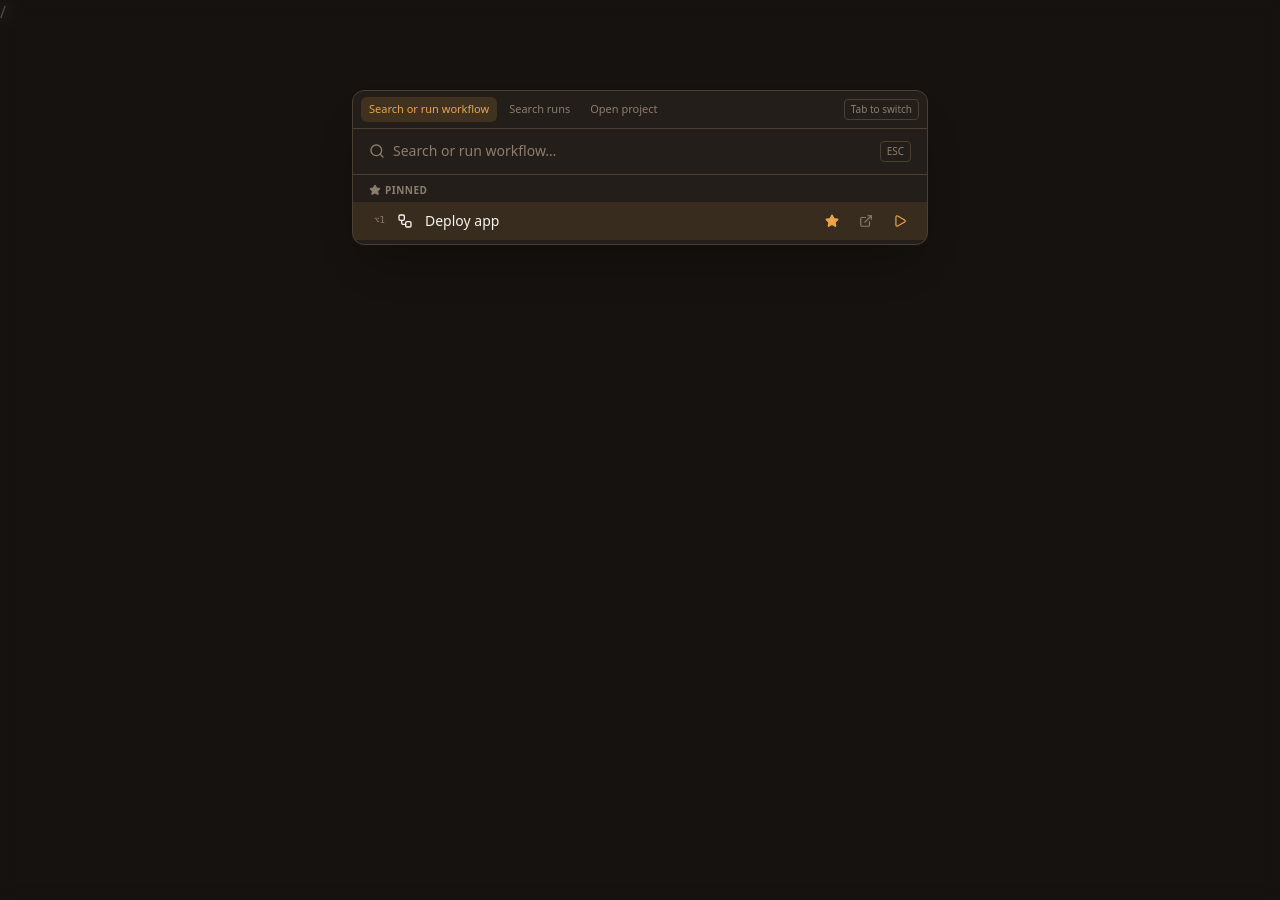
Test: CommandPalette › Enter during the debounce (9ded5db0) › waits for the semantic search when nothing matches locally, instead of asking the assistant (c5f3cff5)
Expected: the text "Deploy app" is shown, [425,210,499,230]
Type "qqxxjj" into the field with placeholder "Search or run workflow…".
click(632, 151); type("qqxxjj")  # box [393,141,872,161]
Wait 250 ms
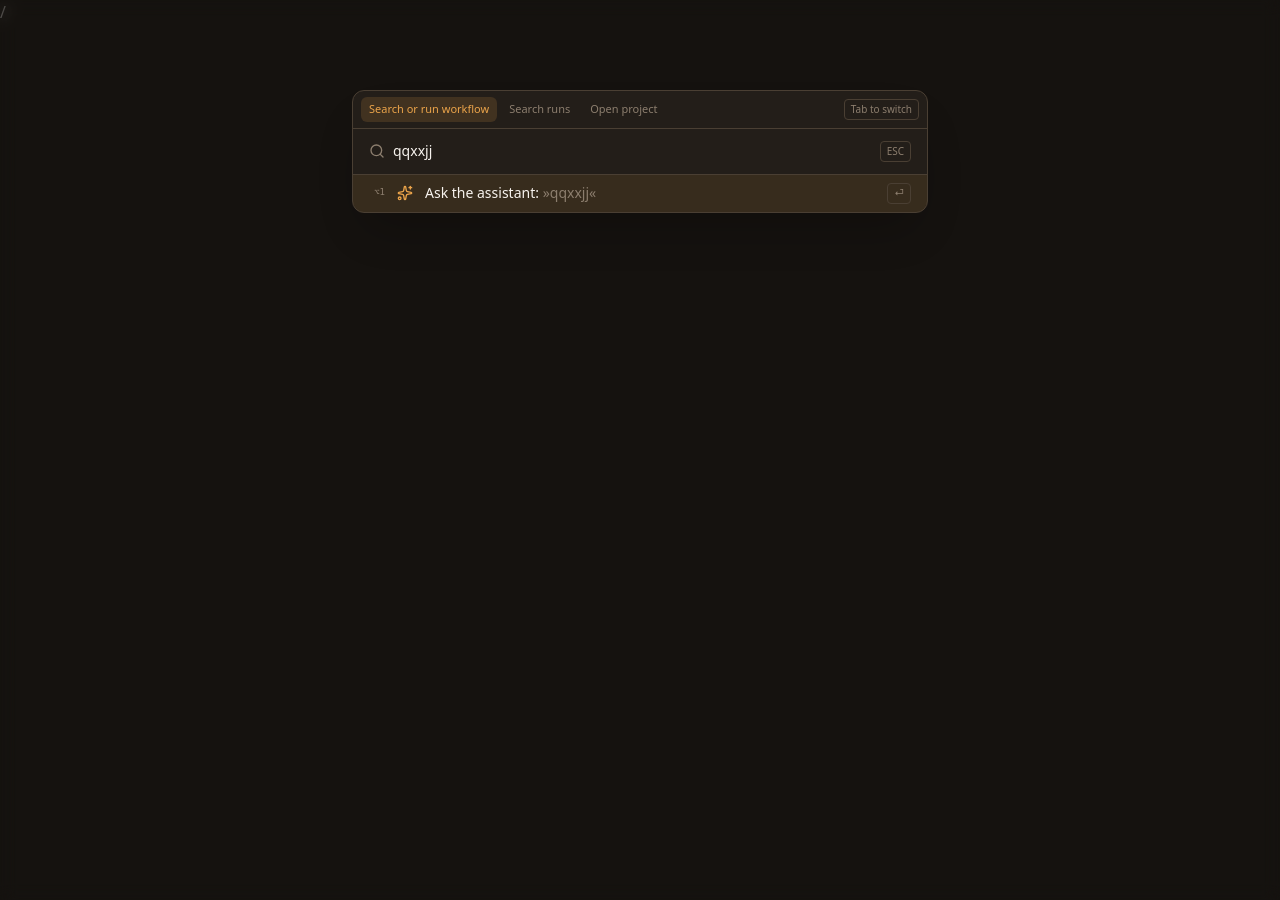
Press Enter
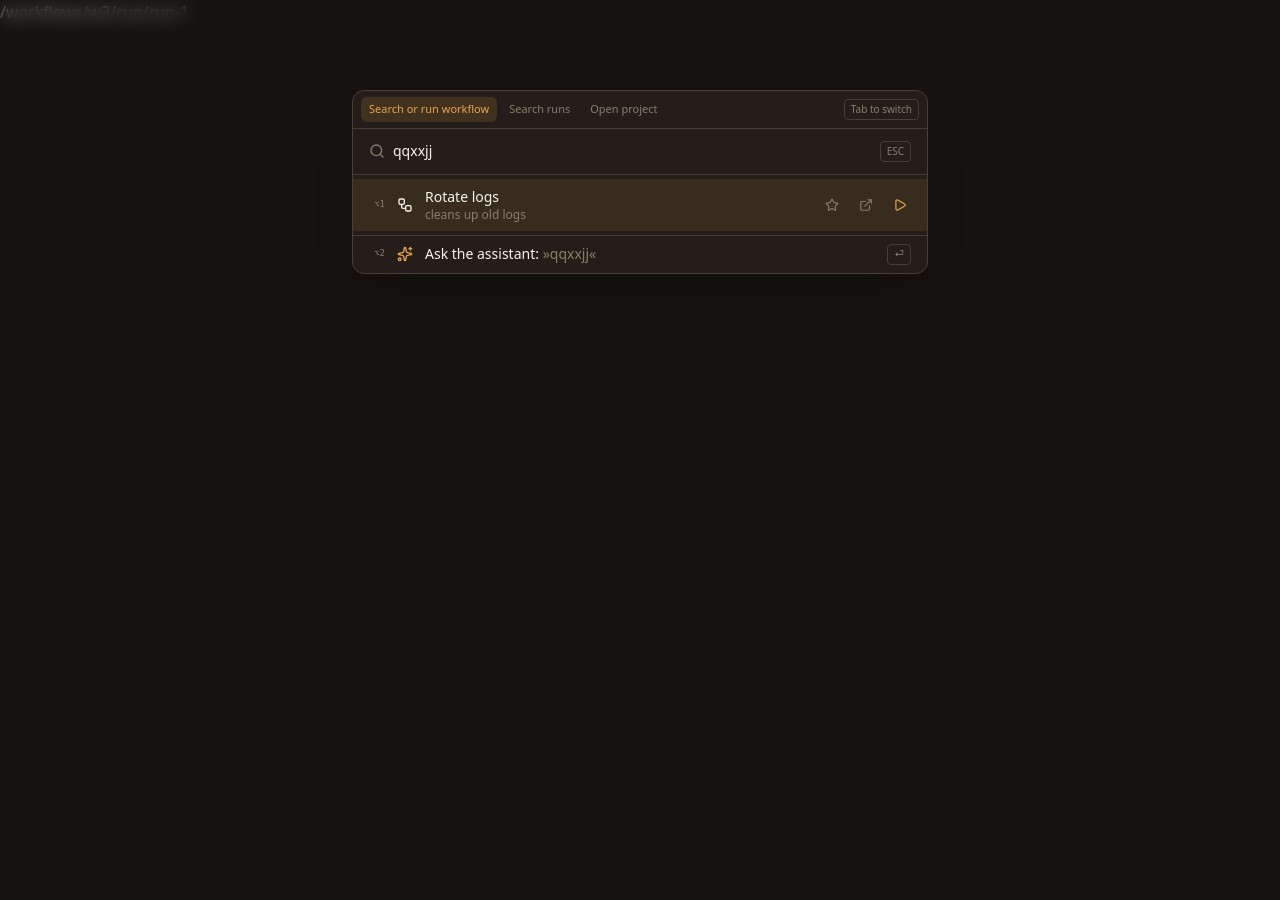
Now the text with test id "location" reads "/workflows/w3/run/run-1", box [0,1,189,23]
